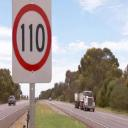speed_limit_110: (14, 4, 50, 70)
